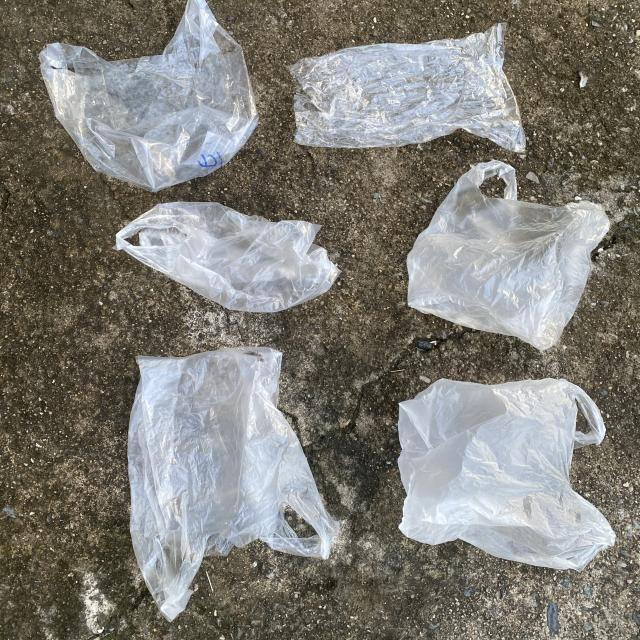Single-layer Plastic: (128, 348, 339, 621), (40, 0, 259, 191), (398, 379, 615, 571), (406, 160, 610, 350), (290, 24, 526, 152), (116, 202, 340, 312)
